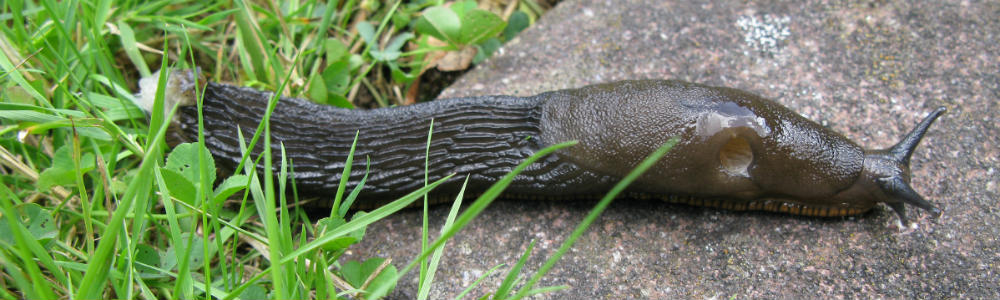slug: (130, 61, 948, 226)
